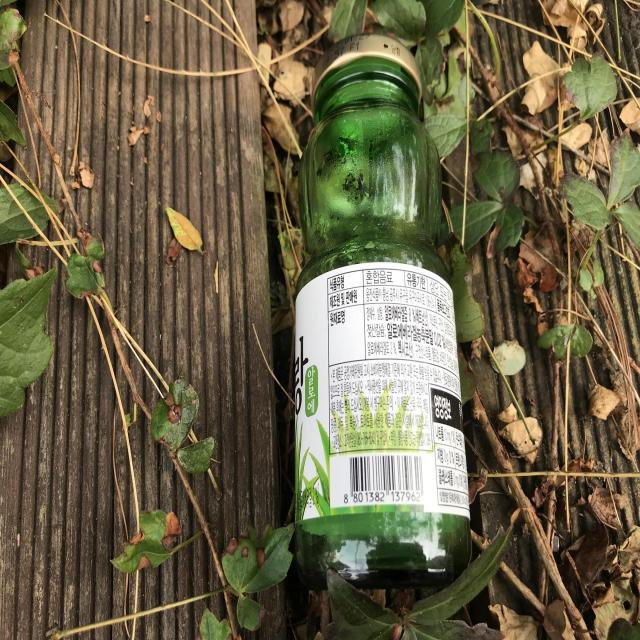glass: (294, 34, 471, 588)
